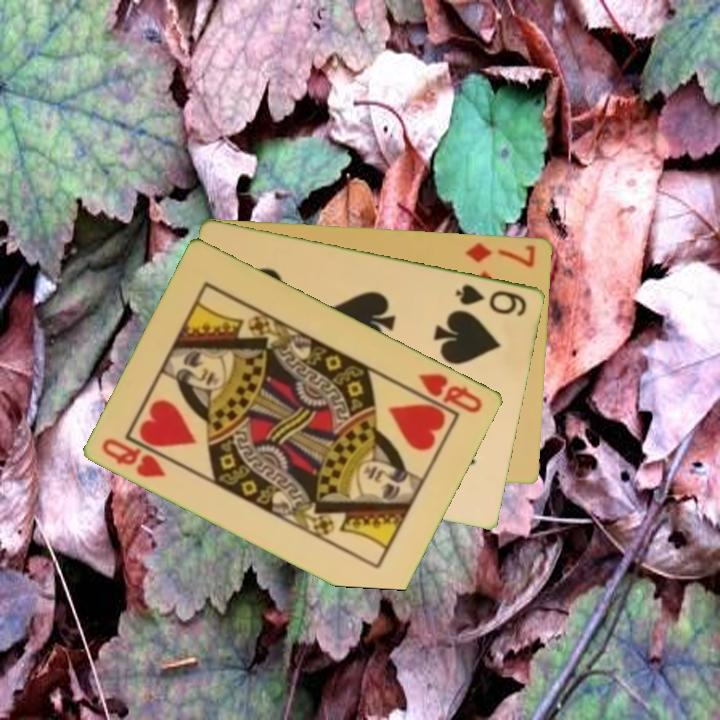6s: (452, 280, 530, 319)
7d: (463, 238, 538, 269)
Qh: (415, 369, 486, 416), (99, 434, 170, 481)
